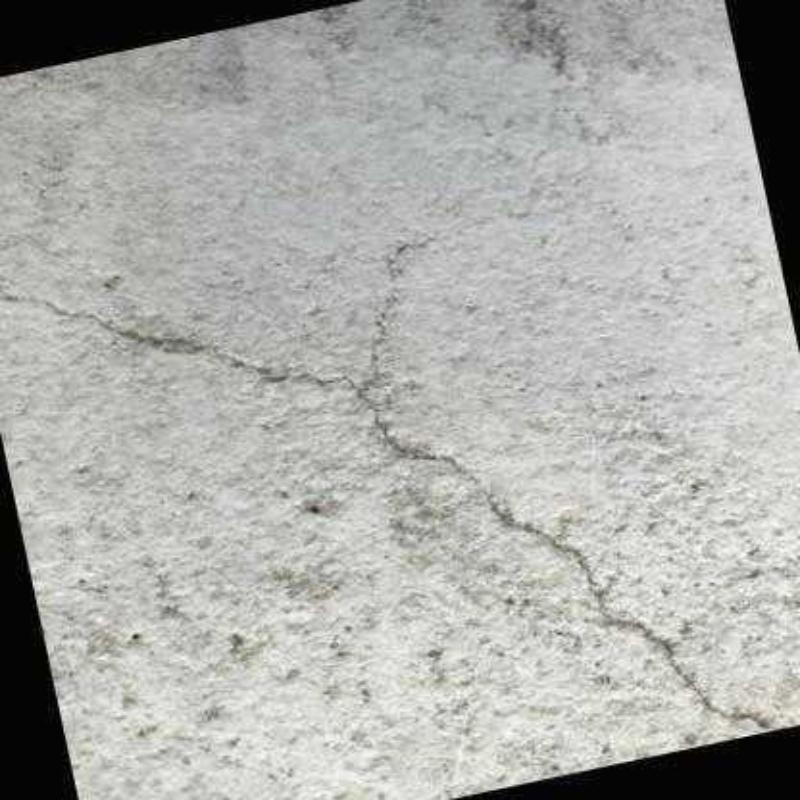pothole: (0, 283, 787, 733)
